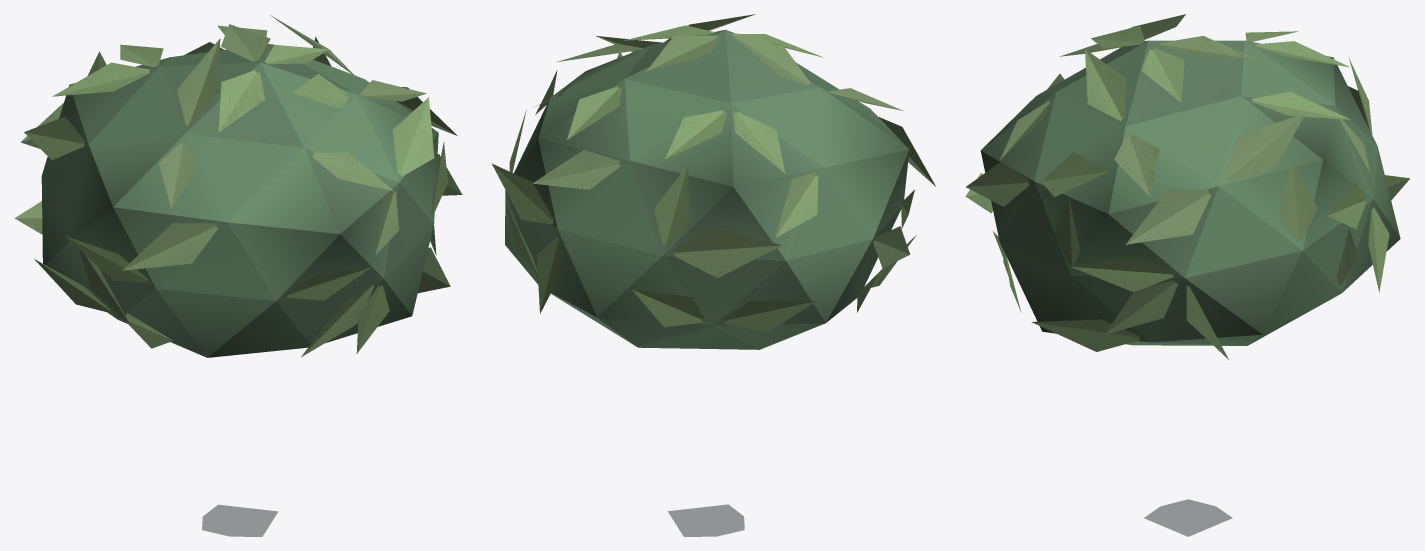
The model's file is magnolia.lod.glb.
3 renders of one model, left to right at view 1: azimuth 30°, elevation 25°; view 2: azimuth 150°, elevation 25°; view 3: azimuth 270°, elevation 25°, orthographic.
Visible parts, largest first — view 1: magnolia; view 2: magnolia; view 3: magnolia.
Part boxes in pixels (<box>): magnolia: <box>14,15,462,536</box>; magnolia: <box>491,14,935,536</box>; magnolia: <box>965,14,1409,536</box>.
Bounding box in the file's own units: 5.39 × 6.71 × 5.48.
